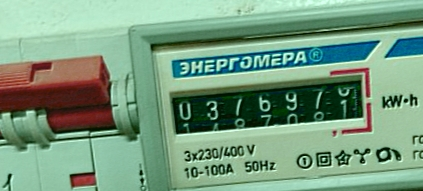0: (177, 99, 194, 122)
1: (339, 98, 350, 121)
3: (205, 99, 220, 121)
6: (257, 90, 274, 114)
7: (310, 85, 327, 109), (231, 93, 247, 118)
9: (284, 89, 300, 112)
screen: (160, 63, 380, 157)
